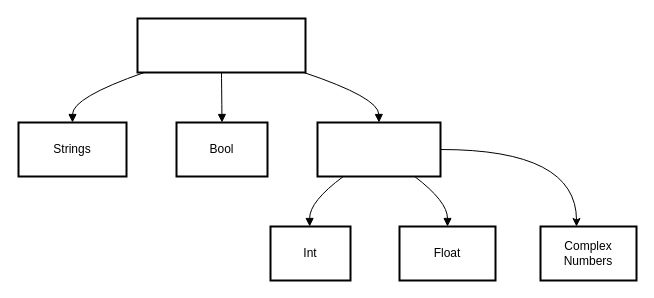
The diagram is 654 pixels wide and 298 high, and some of its shapes have lost their labels. The shapes that lost their labels are listed below. From the top down, each one's centre as x and y in pixels, then its label:
the point at 221,45: Primitive Types
the point at 378,149: Numbers
